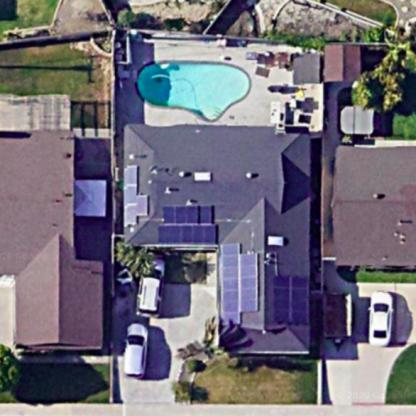car: (358, 288, 396, 352), (132, 250, 166, 321), (115, 318, 153, 381)
solar_panel: (257, 251, 312, 335), (218, 238, 262, 327), (153, 203, 222, 249), (118, 158, 152, 234)
swimming_pool: (123, 47, 257, 121)
